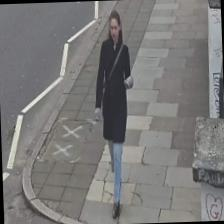person: (91, 9, 137, 218)
